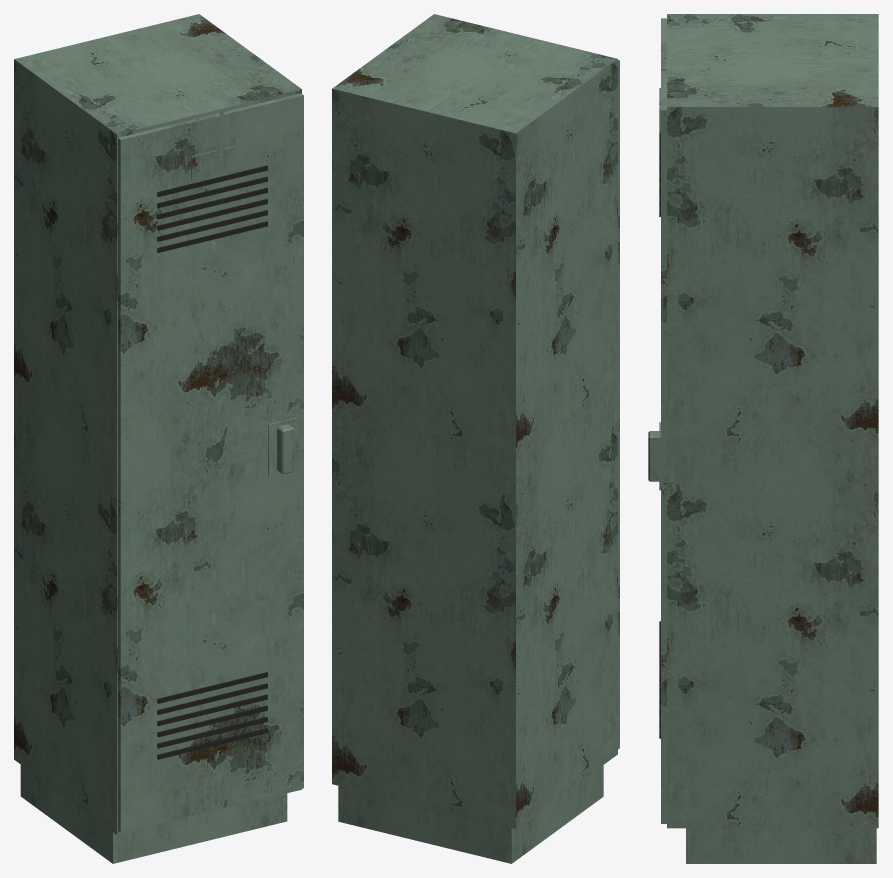
Rendered from metal-locker.glb.
The picture shows the model from 3 angles, left to right: view 1: azimuth 30°, elevation 25°; view 2: azimuth 150°, elevation 25°; view 3: azimuth 270°, elevation 25°; orthographic projection. The views are drawn at different scales.
Visible parts, largest first — view 1: Door, Body; view 2: Body, Door; view 3: Body, Door.
Boxes of the visible parts, bbox=[...] form: Door: bbox=[118, 93, 303, 832]; Body: bbox=[14, 14, 301, 863]; Body: bbox=[332, 14, 617, 863]; Door: bbox=[618, 60, 619, 749]; Body: bbox=[667, 14, 878, 863]; Door: bbox=[648, 18, 666, 823].
Bounding box in the file's own units: 0.52 × 1.98 × 0.544.
Materials: 2 (1 with a texture image).
